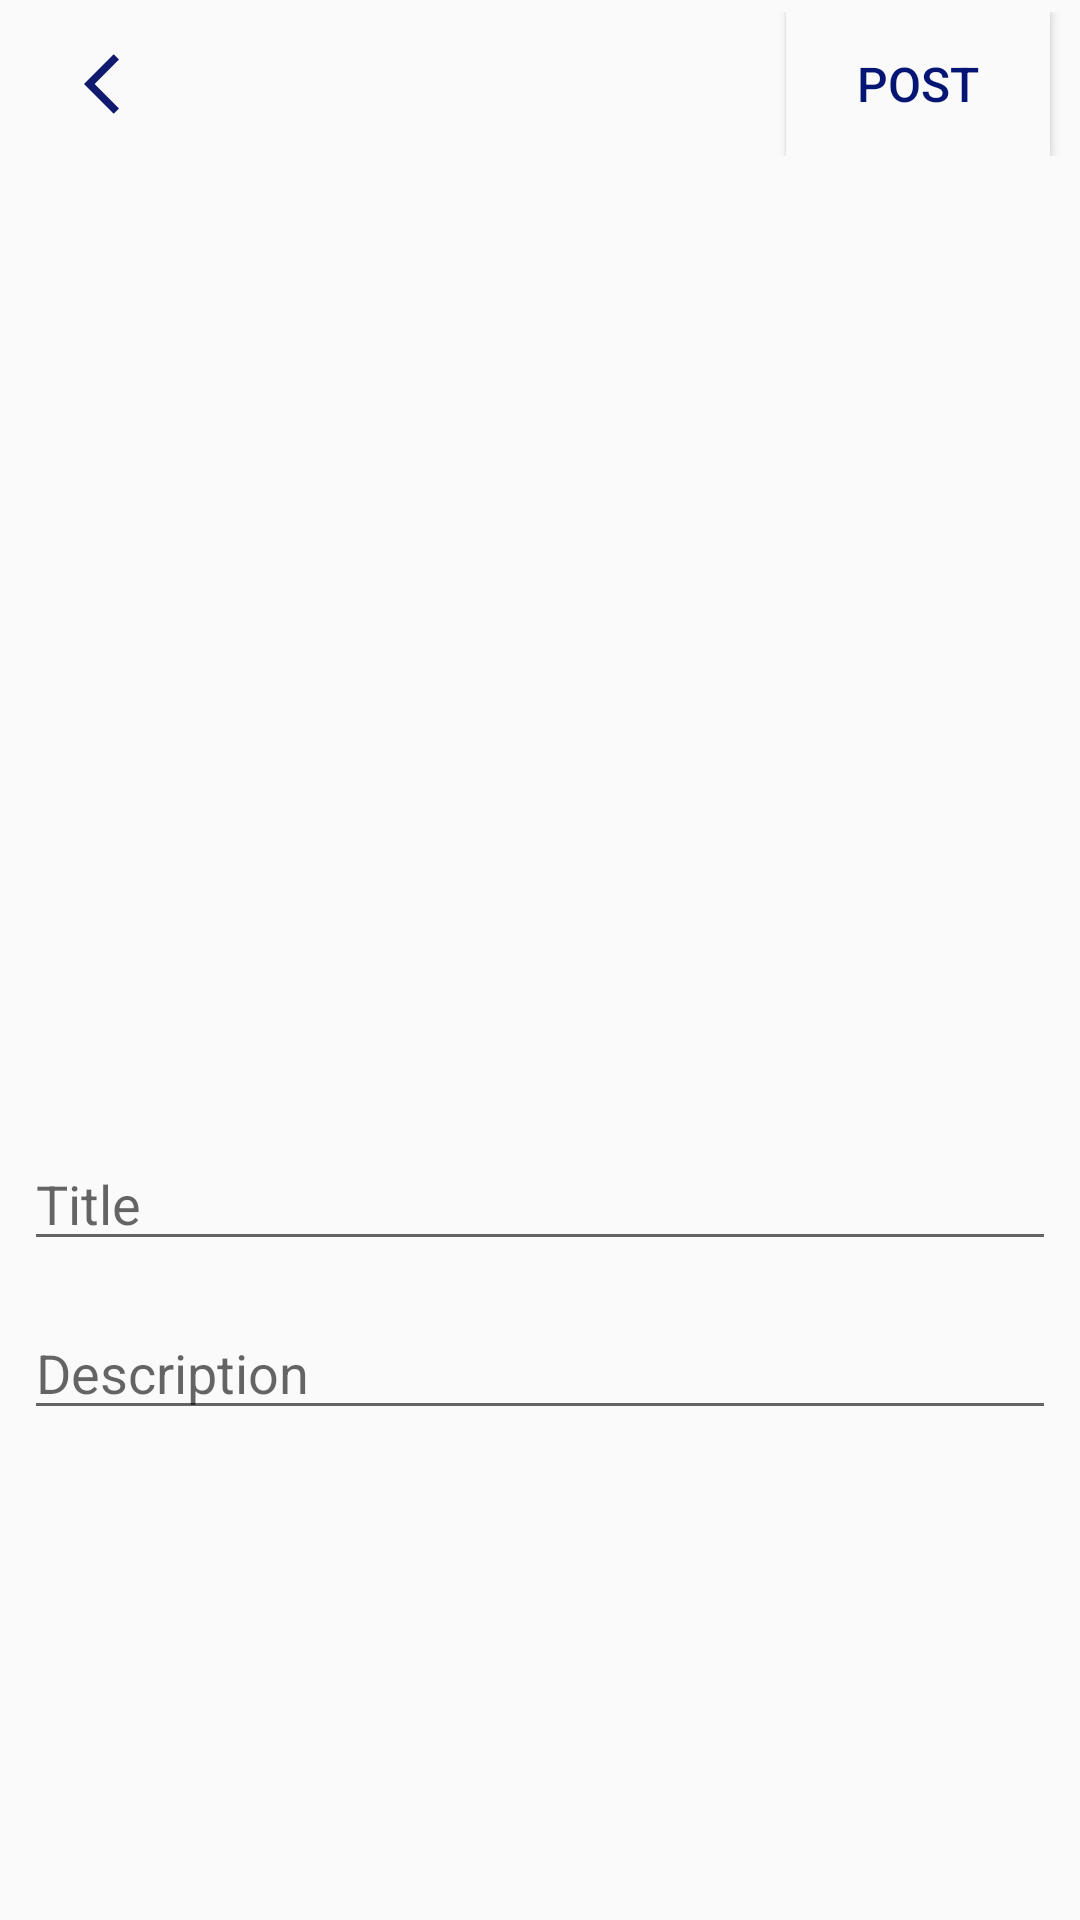

Screen size 1080 x 1920. Icon name, then its box in pixels as (x1,y1,x2,y2):
back: (84,54,119,114)
